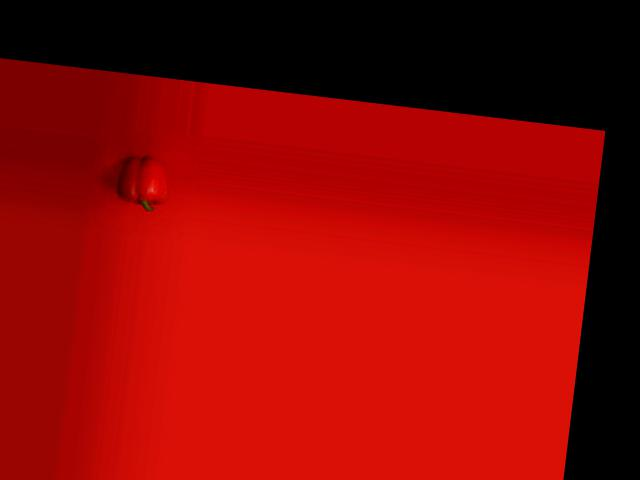bell_pepper: (112, 149, 171, 214)
